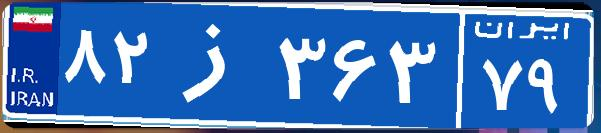2: (110, 28, 158, 105)
3: (385, 28, 445, 110), (273, 28, 330, 110)
6: (330, 28, 385, 110)
7: (475, 38, 525, 113)
8: (57, 26, 110, 107)
9: (525, 38, 570, 115)
ز: (158, 15, 273, 115)
